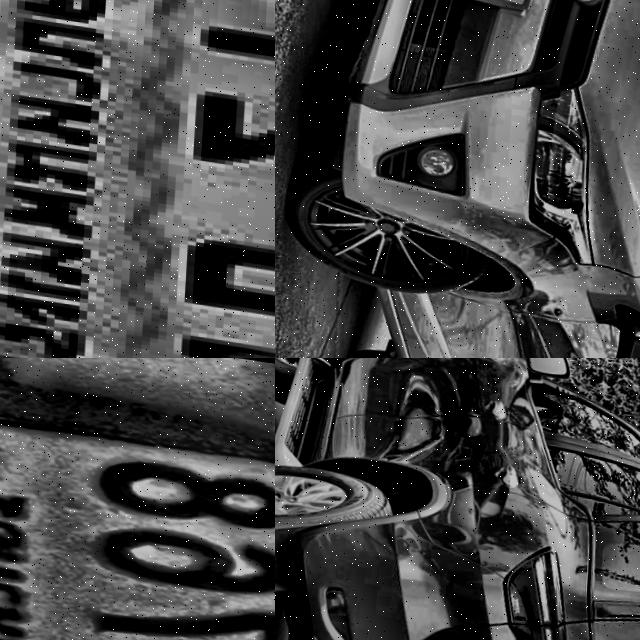license-plate: (0, 0, 275, 358), (0, 358, 275, 640)
